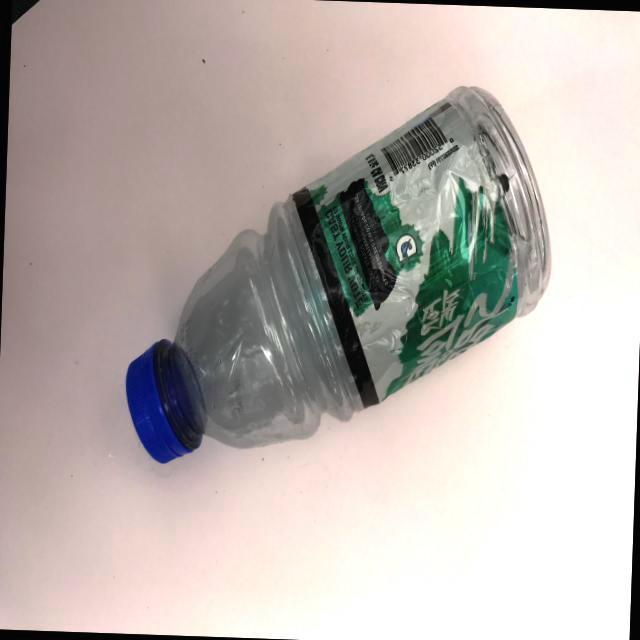plastic: (84, 10, 576, 562)
